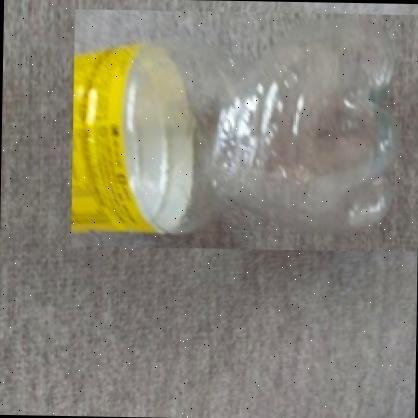bottle: (70, 8, 418, 251)
label: (66, 31, 180, 240)
